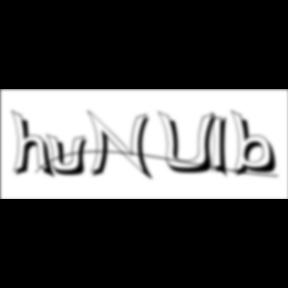I: (211, 110, 235, 182)
N: (87, 109, 157, 183)
U: (158, 110, 224, 176)
b: (231, 109, 284, 179)
h: (12, 108, 58, 182)
u: (46, 132, 94, 178)
